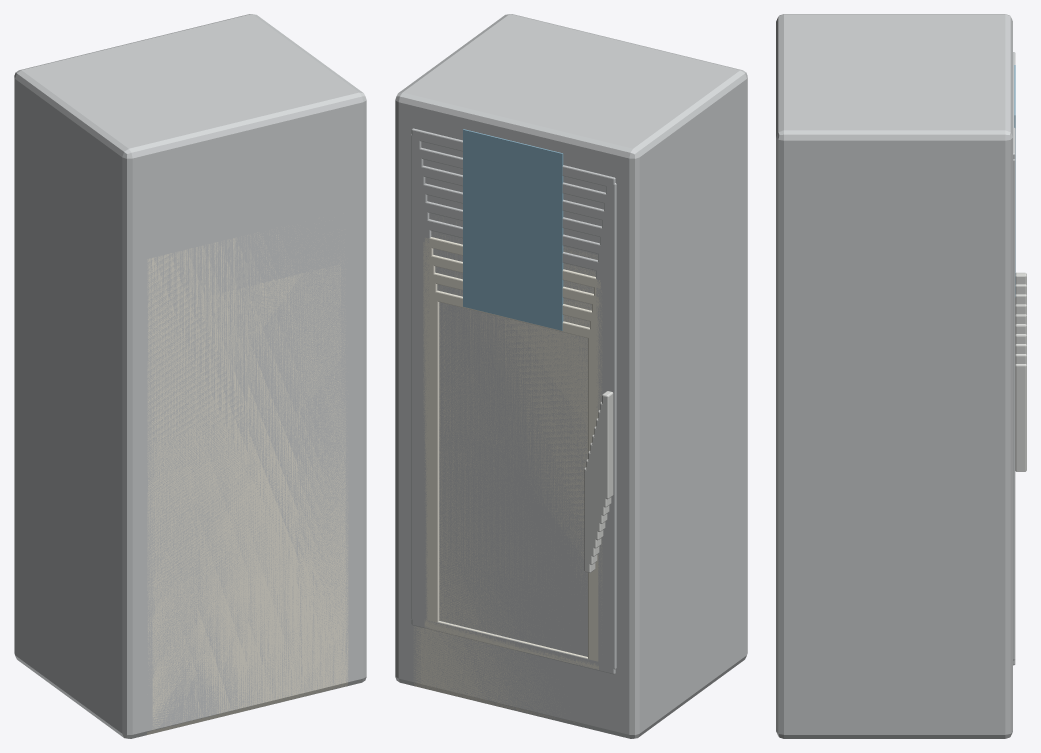
File: Gear11.fbx
3 views of the same model, side by side, from view 1: azimuth 30°, elevation 25°; view 2: azimuth 150°, elevation 25°; view 3: azimuth 270°, elevation 25° (orthographic). The views are drawn at different scales.
Visible parts, largest first — view 1: Gear11_V10_BrushedSteel, Gear11_V4_Ivory, Gear11_V7_BrushedSteel, Gear11_V9_BrushedSteel, Gear11_V3_Ivory, Gear11_V2_Ivory, Gear11_V1_Ivory, Gear11_V5_BrushedSteel, Gear11_V8_BrushedSteel, Gear11_V6_BrushedSteel; view 2: Gear11_V10_BrushedSteel, Gear11_V7_BrushedSteel, Gear11_V1_Ivory, Gear11_V9_BrushedSteel, Gear11_V3_Ivory, Gear11_V8_BrushedSteel, Gear11_V4_Ivory, Gear11_V5_BrushedSteel, Gear11_V2_Ivory, Gear11_V6_BrushedSteel, Gear11_V10_ScreenUI, Gear11_V1_ScreenUI (+10 smaller); view 3: Gear11_V10_BrushedSteel, Gear11_V1_Chrome.
Boxes of the visible parts, bbox=[...] form: Gear11_V10_BrushedSteel: bbox=[14, 14, 366, 738]; Gear11_V4_Ivory: bbox=[146, 227, 348, 734]; Gear11_V7_BrushedSteel: bbox=[140, 156, 355, 733]; Gear11_V9_BrushedSteel: bbox=[134, 120, 360, 738]; Gear11_V3_Ivory: bbox=[150, 238, 345, 712]; Gear11_V2_Ivory: bbox=[152, 258, 341, 730]; Gear11_V1_Ivory: bbox=[155, 264, 340, 718]; Gear11_V5_BrushedSteel: bbox=[145, 192, 350, 732]; Gear11_V8_BrushedSteel: bbox=[137, 139, 358, 733]; Gear11_V6_BrushedSteel: bbox=[142, 177, 352, 685]; Gear11_V10_BrushedSteel: bbox=[395, 14, 747, 738]; Gear11_V7_BrushedSteel: bbox=[406, 156, 622, 736]; Gear11_V1_Ivory: bbox=[421, 270, 596, 709]; Gear11_V9_BrushedSteel: bbox=[401, 120, 627, 738]; Gear11_V3_Ivory: bbox=[416, 232, 600, 708]; Gear11_V8_BrushedSteel: bbox=[403, 145, 624, 735]; Gear11_V4_Ivory: bbox=[413, 217, 602, 723]; Gear11_V5_BrushedSteel: bbox=[411, 197, 616, 710]; Gear11_V2_Ivory: bbox=[418, 272, 598, 707]; Gear11_V6_BrushedSteel: bbox=[408, 176, 619, 713]; Gear11_V10_ScreenUI: bbox=[463, 129, 563, 174]; Gear11_V1_ScreenUI: bbox=[463, 286, 563, 330]; Gear11_V10_BrushedSteel: bbox=[776, 14, 1015, 738]; Gear11_V1_Chrome: bbox=[1015, 364, 1026, 471].
Size of the model in its own units: 73.5 by 170 by 63.5.
